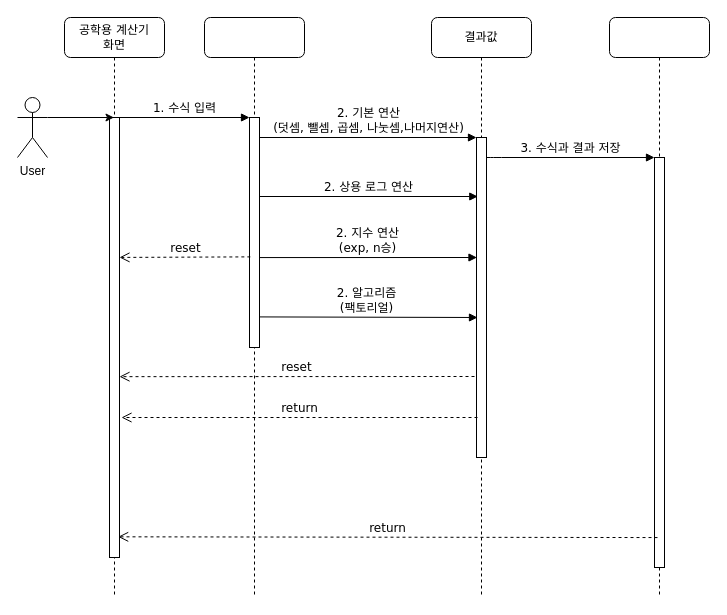
The diagram is 727 pixels wide and 615 high, and some of its shapes have lost their labels. The shapes that lost their labels are listed below. From the top down, each one's box as (x1, y1, x2, y2) in pixels, then its label:
(204, 16, 304, 598): 연산 우선 순위
(608, 16, 710, 598): History
